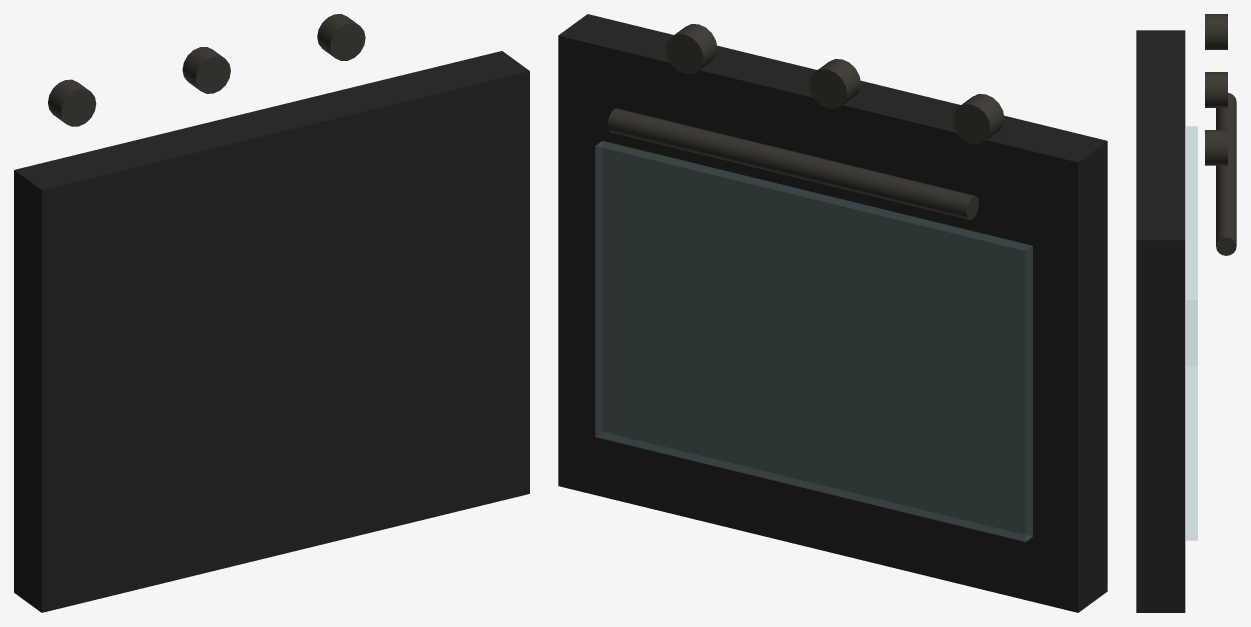
The model's file is kitchen-oven.gltf.
The picture shows the model from 3 angles, left to right: view 1: azimuth 30°, elevation 25°; view 2: azimuth 150°, elevation 25°; view 3: azimuth 270°, elevation 25°; orthographic projection. The views are drawn at different scales.
Visible parts, largest first — view 1: Integrated oven black fascia, Oven control knob (×3); view 2: Integrated oven black fascia, Oven glass viewing panel, Oven tubular handle, Oven control knob (×3); view 3: Integrated oven black fascia, Oven glass viewing panel, Oven tubular handle, Oven control knob (×3).
Part boxes in pixels (bbox=[...]): Integrated oven black fascia: bbox=[14, 51, 529, 612]; Oven control knob (×3): bbox=[48, 14, 365, 126]; Integrated oven black fascia: bbox=[558, 14, 1107, 612]; Oven glass viewing panel: bbox=[595, 141, 1032, 541]; Oven tubular handle: bbox=[608, 108, 978, 219]; Oven control knob (×3): bbox=[666, 24, 1004, 144]; Integrated oven black fascia: bbox=[1136, 30, 1185, 612]; Oven glass viewing panel: bbox=[1186, 126, 1197, 540]; Oven tubular handle: bbox=[1216, 93, 1236, 255]; Oven control knob (×3): bbox=[1205, 14, 1227, 165].
Bounding box in the file's own units: 0.58 × 0.541 × 0.117.
